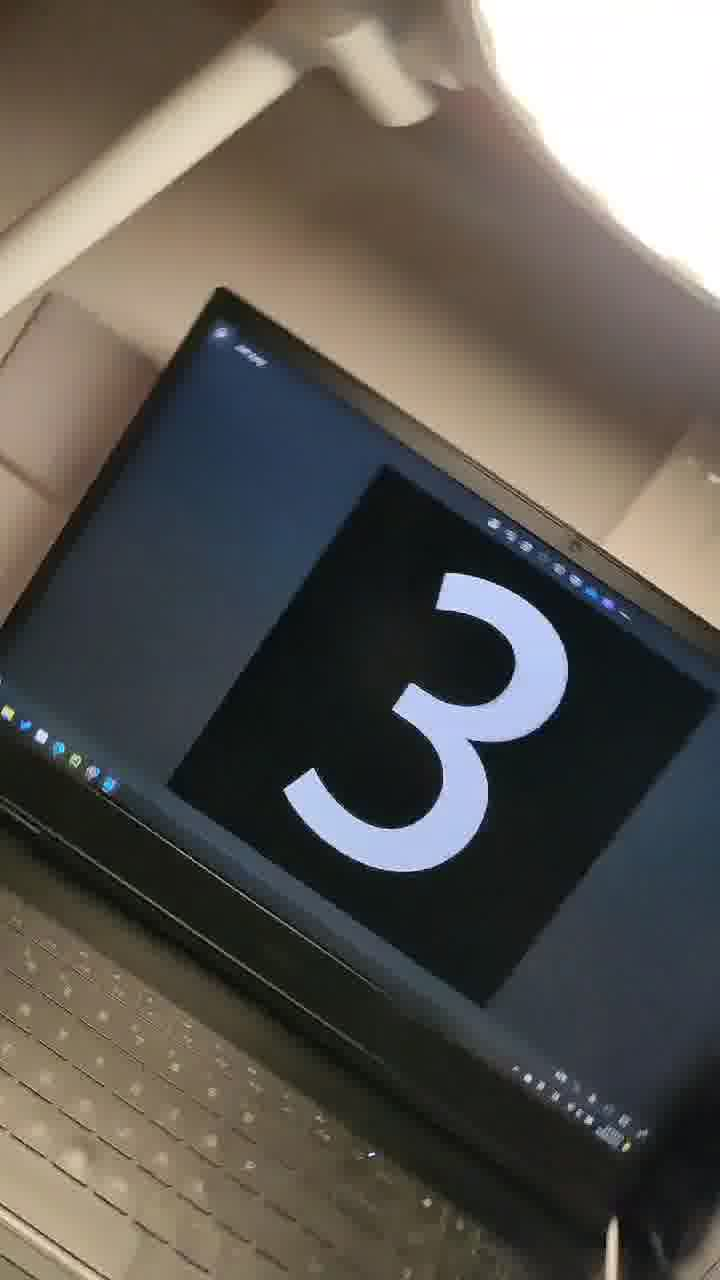three: (213, 484, 586, 928)
